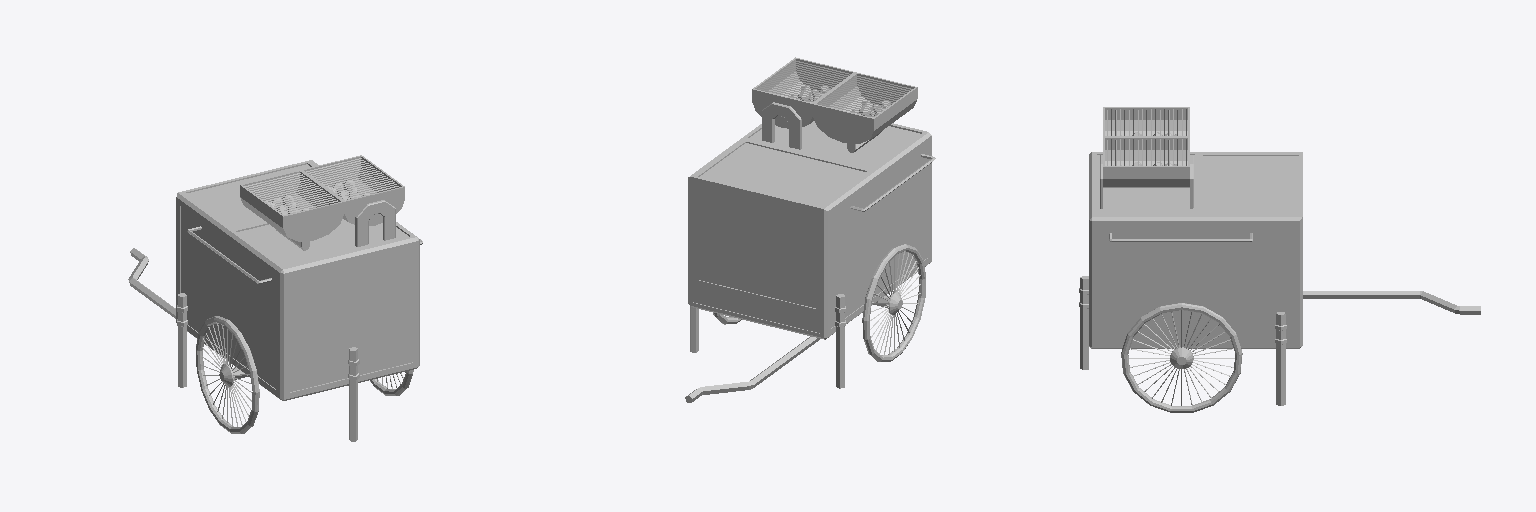
The model's file is nakkivaunu (1).obj.
3 renders of one model, left to right at view 1: azimuth 30°, elevation 25°; view 2: azimuth 150°, elevation 25°; view 3: azimuth 270°, elevation 25°, orthographic.
Visible parts, largest first — view 1: Nakkivaunu_Cube, Grilli_Icosphere, Renkaat_Cube.004, Kromi_Cube.005, Luukku_Cube.001, GrilliJalat_Icosphere.004; view 2: Nakkivaunu_Cube, Ovi_Cube.002, Grilli_Icosphere, Luukku_Cube.001, Renkaat_Cube.004, Kromi_Cube.005, GrilliJalat_Icosphere.004; view 3: Nakkivaunu_Cube, Grilli_Icosphere, Luukku_Cube.001, Renkaat_Cube.004, Kromi_Cube.005.
Boxes of the visible parts, x1,y1,x2,y2 form: Nakkivaunu_Cube: [176, 160, 419, 400]; Grilli_Icosphere: [240, 155, 404, 241]; Renkaat_Cube.004: [196, 316, 413, 433]; Kromi_Cube.005: [128, 222, 422, 441]; Luukku_Cube.001: [181, 161, 315, 229]; GrilliJalat_Icosphere.004: [276, 200, 395, 250]; Nakkivaunu_Cube: [688, 121, 931, 339]; Ovi_Cube.002: [693, 183, 820, 314]; Grilli_Icosphere: [752, 57, 917, 143]; Luukku_Cube.001: [693, 139, 872, 213]; Renkaat_Cube.004: [713, 244, 925, 361]; Kromi_Cube.005: [685, 124, 935, 402]; GrilliJalat_Icosphere.004: [762, 102, 881, 152]; Nakkivaunu_Cube: [1089, 152, 1302, 348]; Grilli_Icosphere: [1103, 107, 1189, 187]; Luukku_Cube.001: [1199, 153, 1302, 215]; Renkaat_Cube.004: [1121, 303, 1242, 412]; Kromi_Cube.005: [1079, 233, 1480, 405].
Bounding box in the file's own units: 1.87 × 2.56 × 3.92.